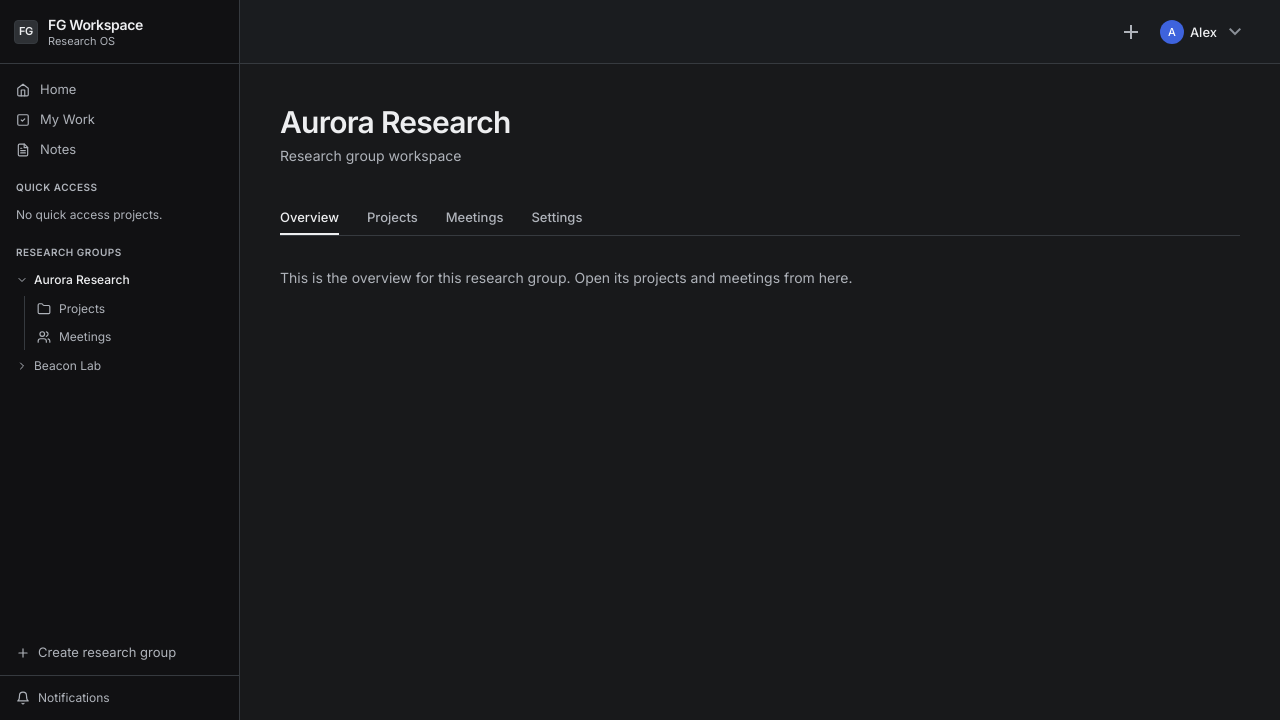
Test case: Research Group workspace — shared layout + nested routes › keeps header + tabs when clicking Projects and scopes the list to the URL group
Expected: the heading "Aurora Research" is shown, [280,104,511,140]
Click the link "Projects" in the row of "Settings" at (392, 216), box [367,208,418,224]
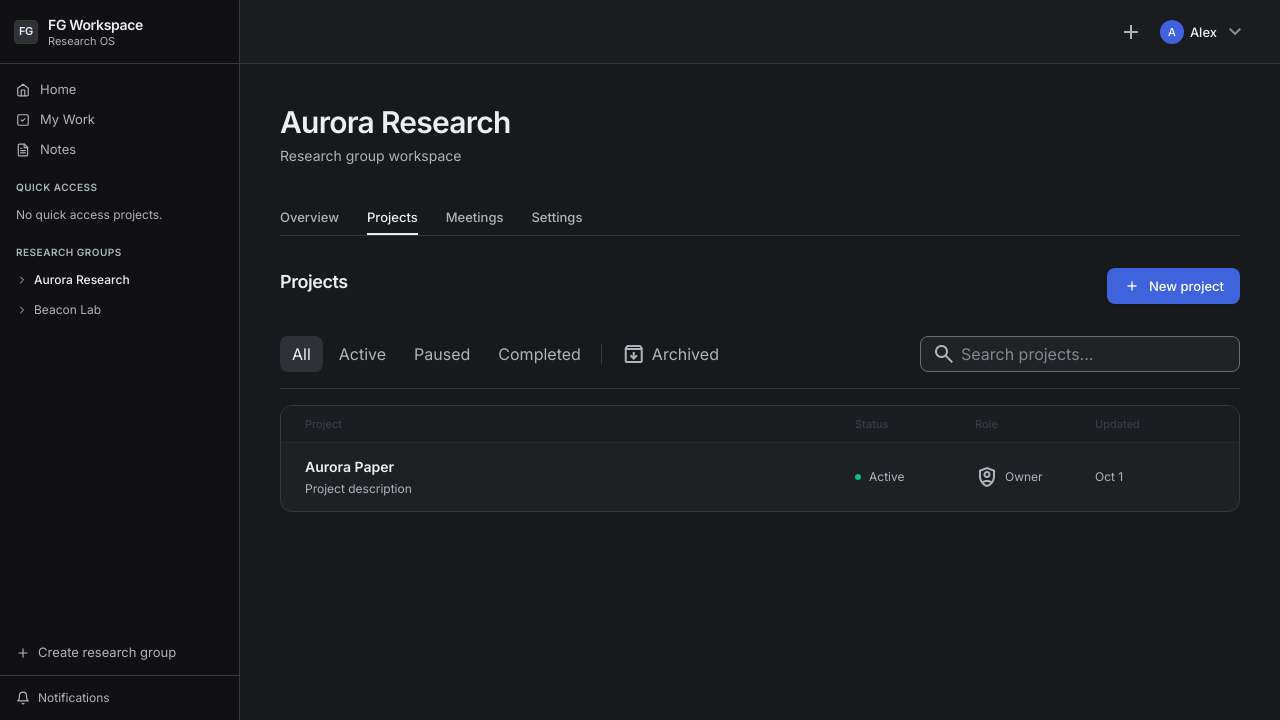
Expected: the headings read "Aurora Research", in this order, [280,104,511,140]
Now the link "Aurora Paper Project description Active Owner Oct 1" is shown, box [305,458,1123,496]
Now the button "New project" is enabled, box [1107,268,1240,304]
